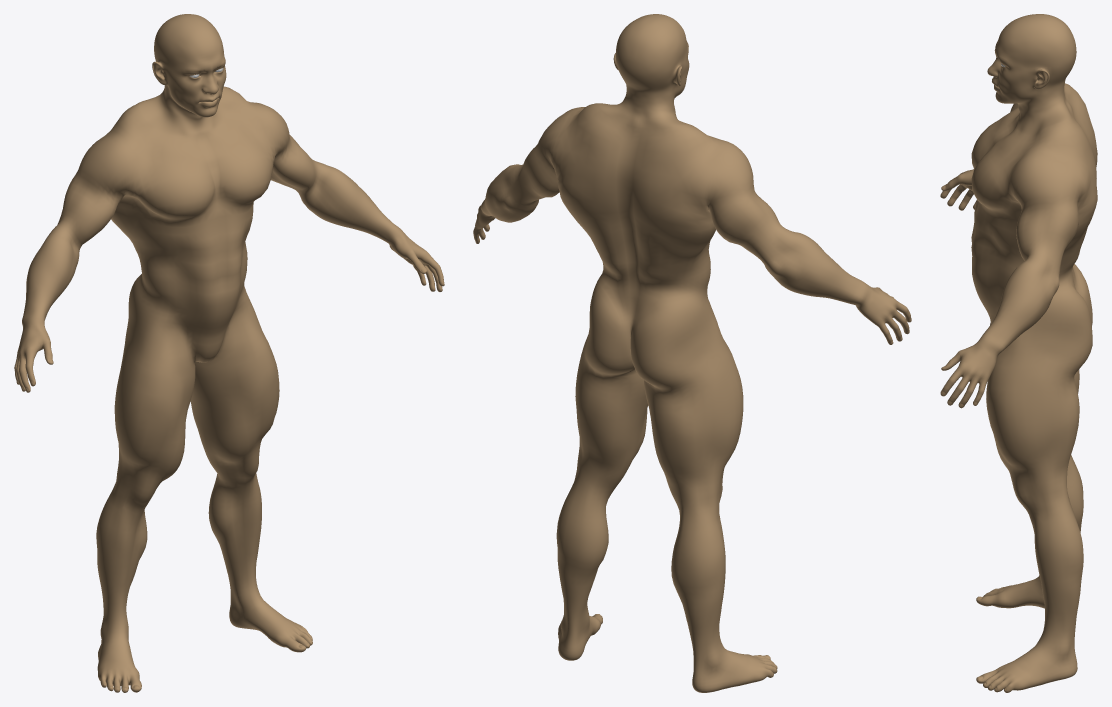
The model's file is omro.gltf.
3 views of the same model, side by side, from view 1: azimuth 30°, elevation 25°; view 2: azimuth 150°, elevation 25°; view 3: azimuth 270°, elevation 25° (orthographic). The views are drawn at different scales.
Visible parts, largest first — view 1: HG_Body; view 2: HG_Body; view 3: HG_Body.
Part boxes in pixels (<box>): HG_Body: <box>14,14,444,692</box>; HG_Body: <box>473,14,911,692</box>; HG_Body: <box>940,14,1097,692</box>.
Size of the model in its own units: 1.2 by 1.73 by 0.3935.
